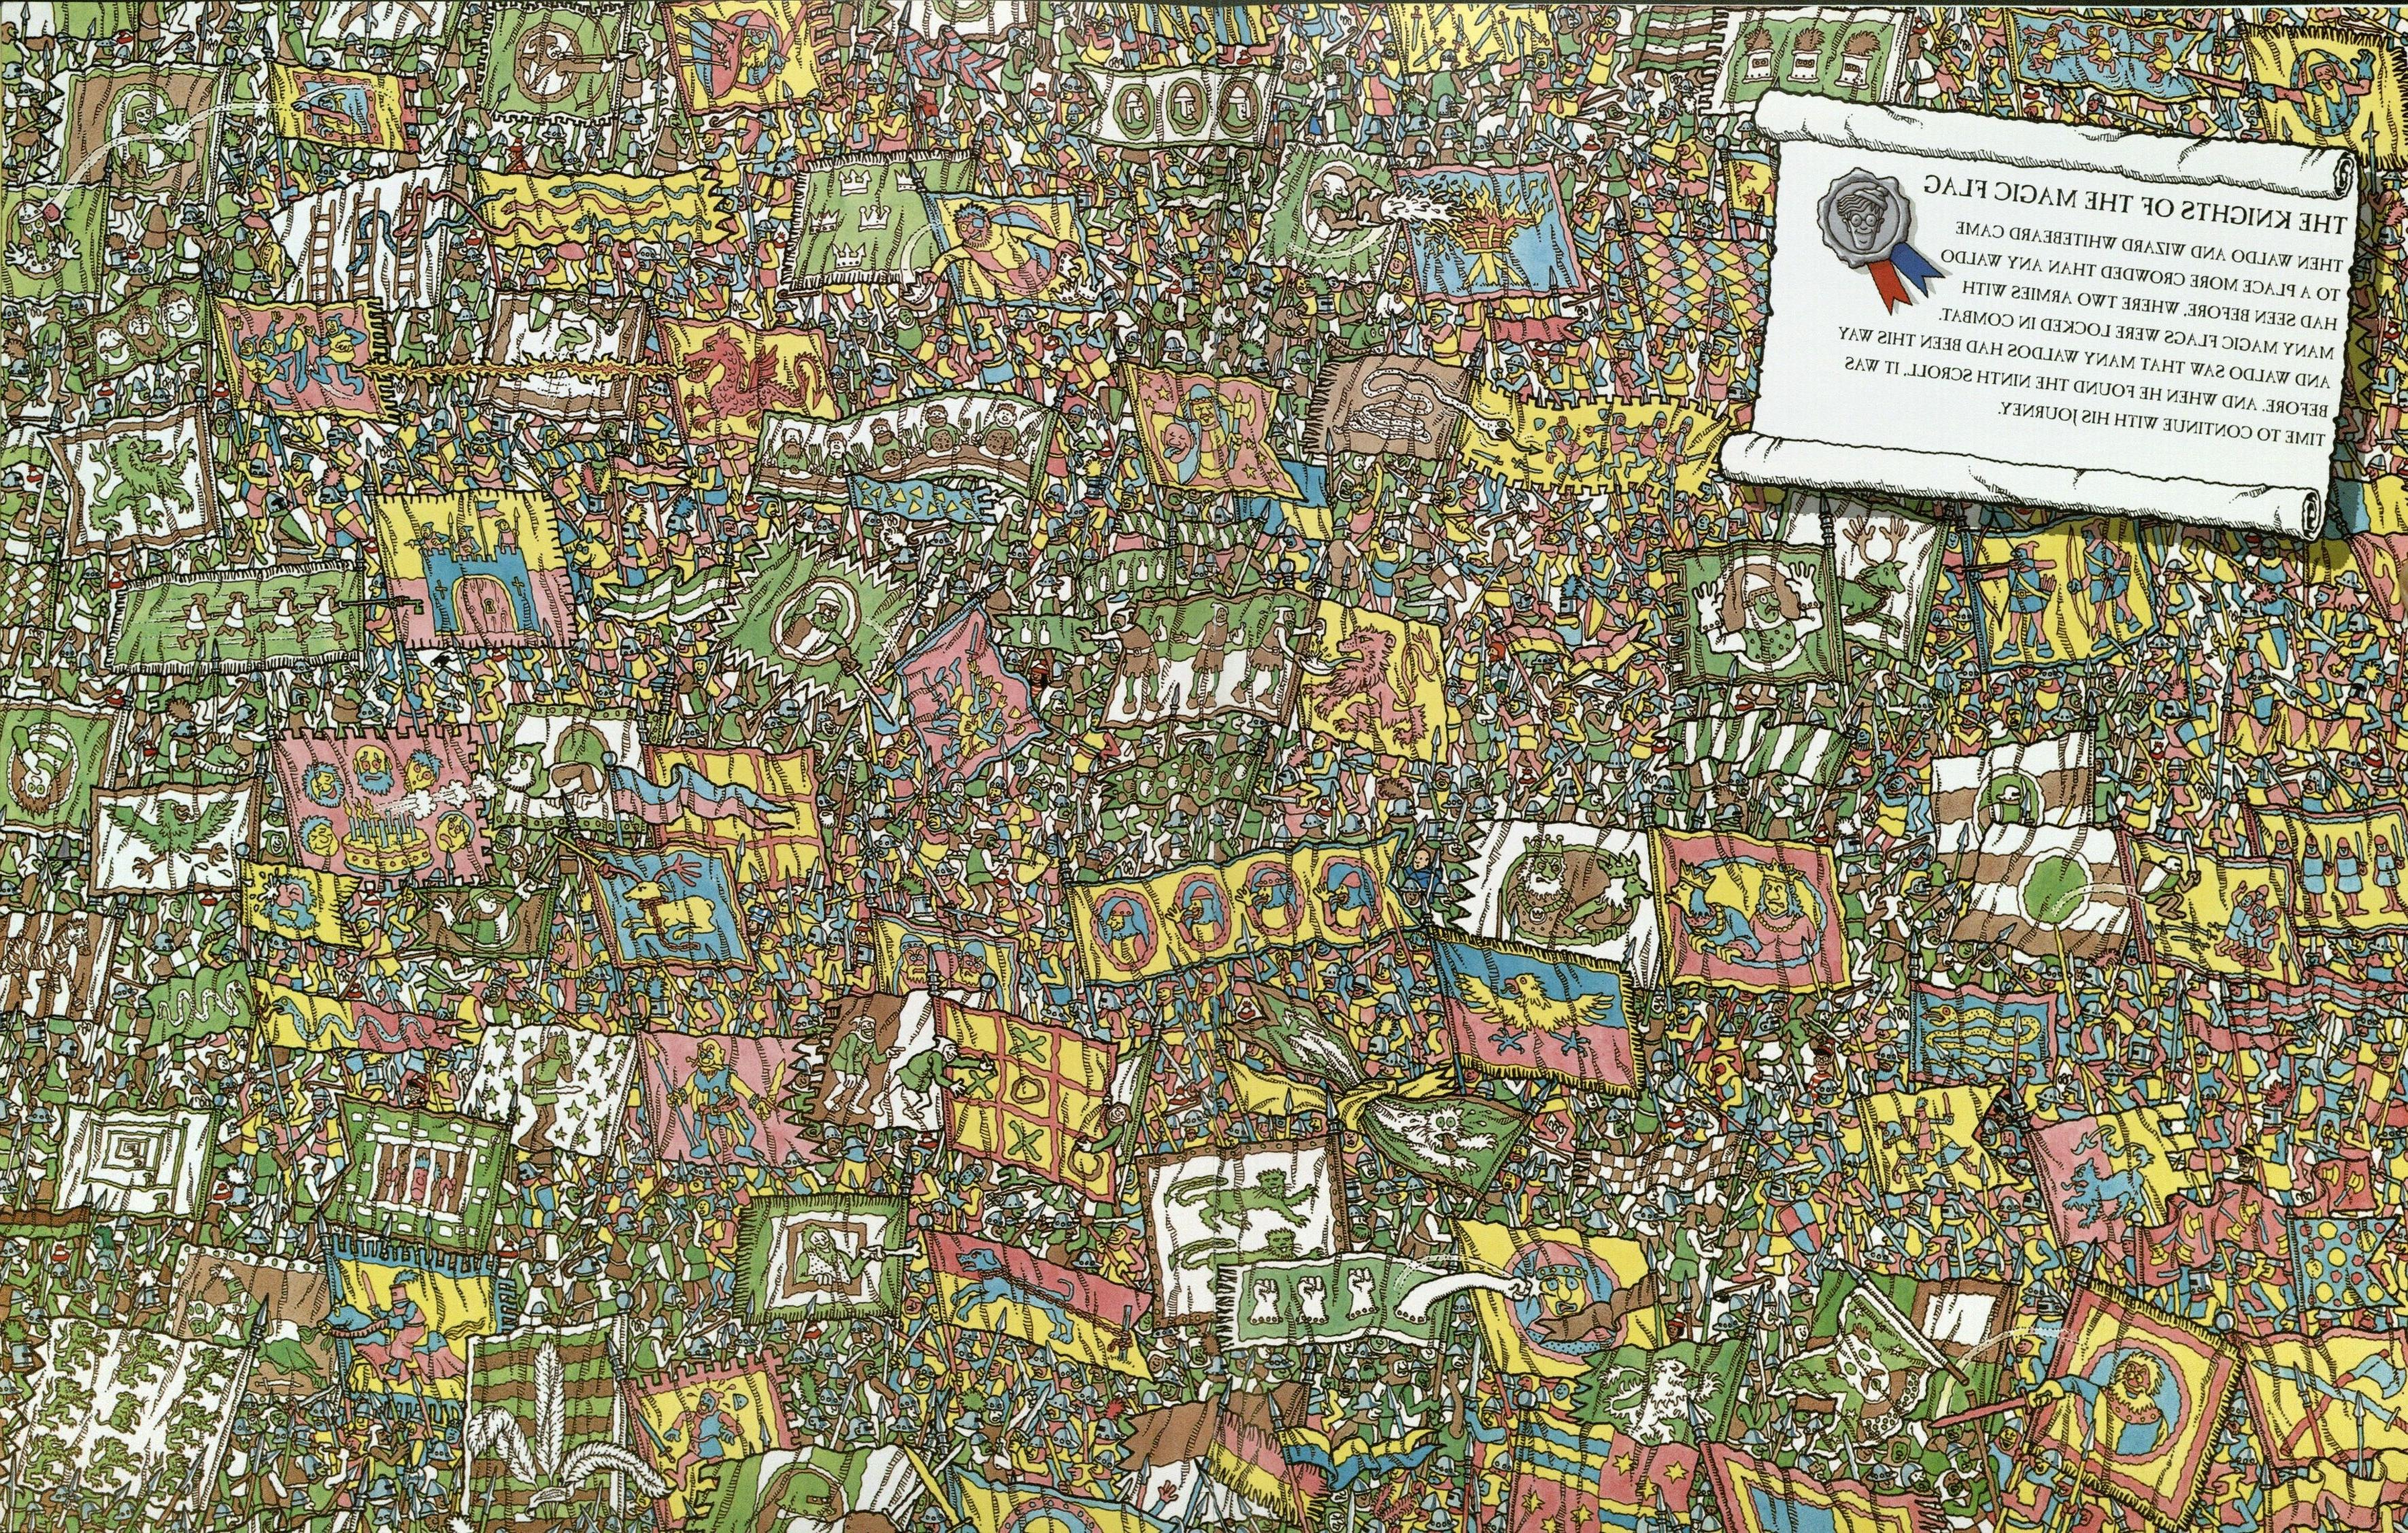waldos: (1806, 1037, 1838, 1103)
